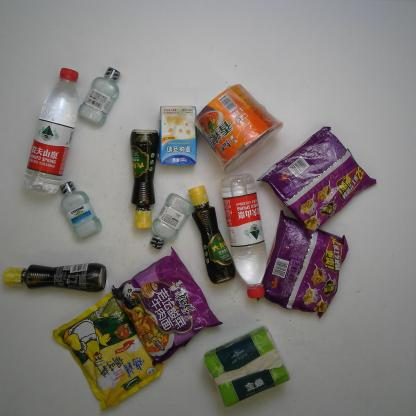Drink: (22, 66, 81, 197), (219, 172, 268, 300)
Instant Noodles: (254, 126, 378, 240), (110, 244, 224, 368), (256, 209, 350, 320), (193, 82, 286, 174)
Milk: (156, 104, 201, 167)
Personal Hygiene: (57, 178, 103, 241), (148, 190, 195, 251), (77, 65, 122, 127)
Seasoner: (50, 289, 165, 413), (187, 184, 237, 286), (2, 259, 109, 294), (129, 126, 160, 230)
Tissue: (201, 321, 293, 411)
